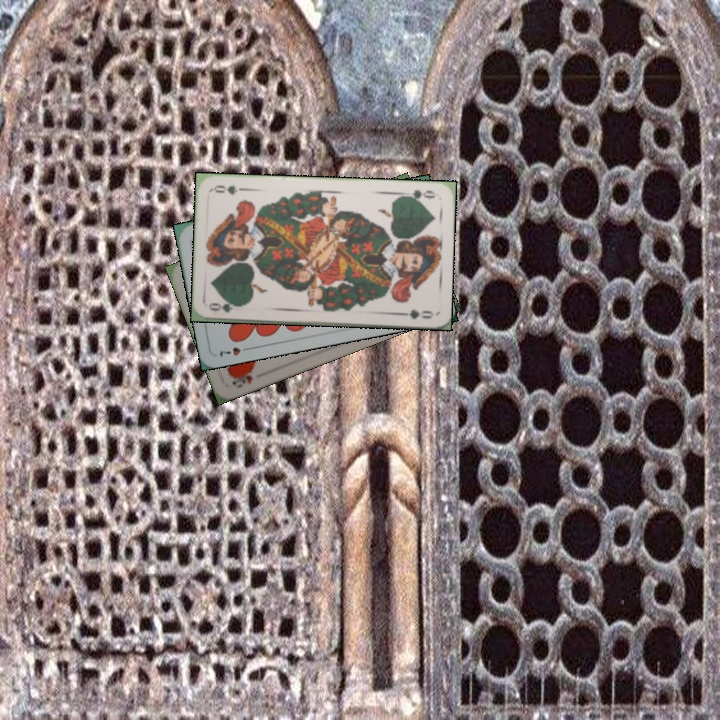GO: (206, 298, 247, 315), (399, 186, 437, 203)
H7: (216, 343, 254, 359)
HO: (228, 365, 257, 391)
